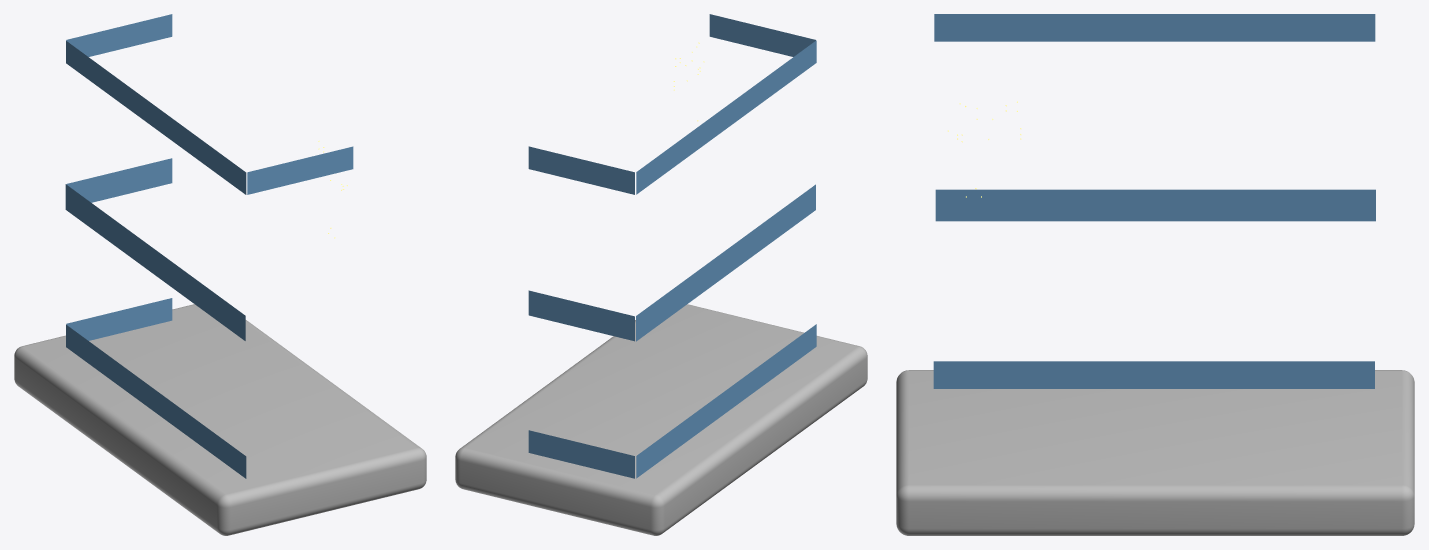
Rendered from ibm-1401-mainframe.glb.
The picture shows the model from 3 angles, left to right: view 1: azimuth 30°, elevation 25°; view 2: azimuth 150°, elevation 25°; view 3: azimuth 270°, elevation 25°; orthographic projection. The views are drawn at different scales.
Parts seen in each view (by area): view 1: Cube_1, Cube_6, Cube_5, Cube_7, Cube, Cube_3, Cube_4, Cube_2; view 2: Cube_1, Cube_6, Cube_7, Cube_5, Cube_3, Cube_2, Cube_4, Cube; view 3: Cube_1, Cube_6, Cube_7, Cube_5.
Part boxes in pixels (left/top/right/bottom): Cube_1: left=14, top=304, right=426, bottom=535; Cube_6: left=65, top=184, right=245, bottom=340; Cube_5: left=66, top=324, right=246, bottom=478; Cube_7: left=66, top=41, right=246, bottom=194; Cube: left=247, top=146, right=353, bottom=194; Cube_3: left=66, top=158, right=172, bottom=202; Cube_4: left=66, top=298, right=172, bottom=340; Cube_2: left=66, top=14, right=172, bottom=56; Cube_1: left=455, top=304, right=867, bottom=535; Cube_6: left=636, top=184, right=815, bottom=341; Cube_7: left=636, top=40, right=816, bottom=194; Cube_5: left=636, top=324, right=816, bottom=478; Cube_3: left=528, top=290, right=634, bottom=341; Cube_2: left=528, top=146, right=634, bottom=194; Cube_4: left=528, top=430, right=634, bottom=478; Cube: left=709, top=14, right=815, bottom=56; Cube_1: left=896, top=370, right=1414, bottom=535; Cube_6: left=935, top=189, right=1375, bottom=221; Cube_7: left=934, top=14, right=1375, bottom=41; Cube_5: left=933, top=361, right=1374, bottom=388.
Bounding box in the file's own units: 0.5851 × 0.9337 × 1.03.
